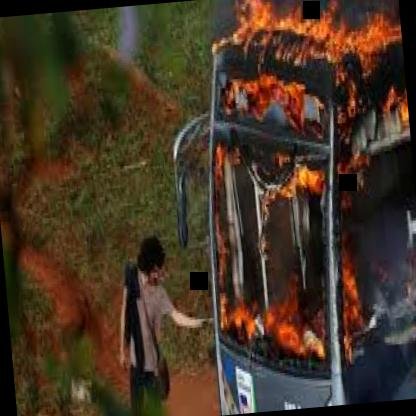fire: (205, 0, 416, 386)
